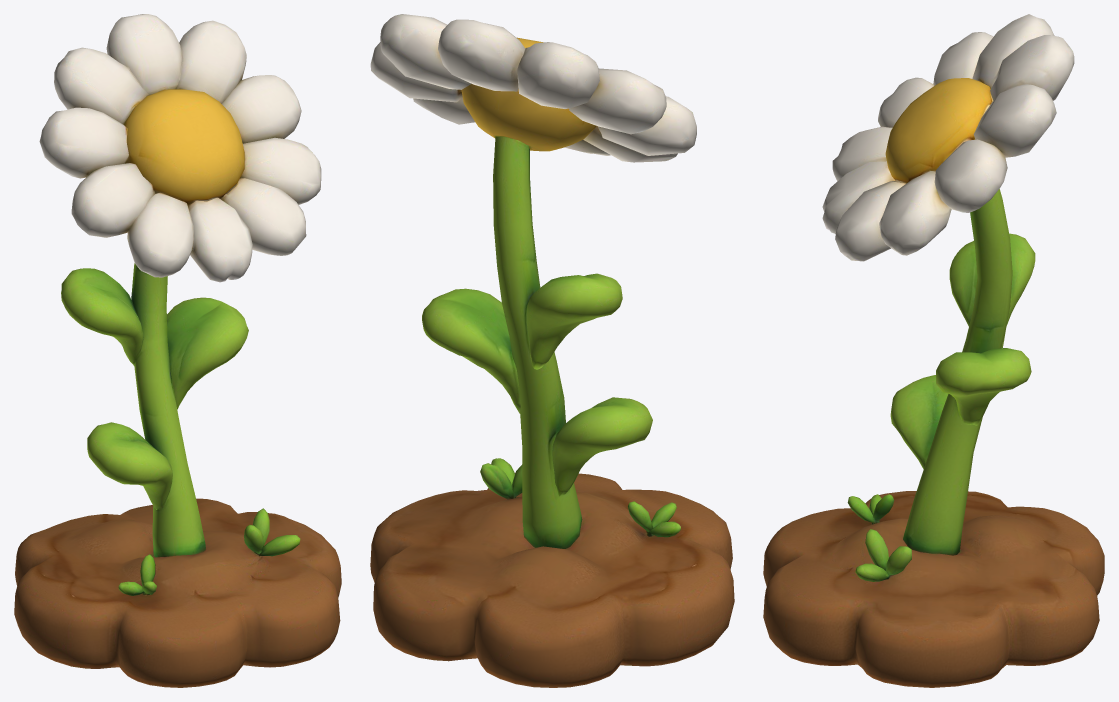
The model's file is daisy_s5.glb.
3 views of the same model, side by side, from view 1: azimuth 30°, elevation 25°; view 2: azimuth 150°, elevation 25°; view 3: azimuth 270°, elevation 25° (orthographic). The views are drawn at different scales.
Visible parts, largest first — view 1: tripo_node_97cf15dc-2b10-4eae-a938-f44a3dfe15f3; view 2: tripo_node_97cf15dc-2b10-4eae-a938-f44a3dfe15f3; view 3: tripo_node_97cf15dc-2b10-4eae-a938-f44a3dfe15f3.
Boxes of the visible parts, x1,y1,x2,y2 form: tripo_node_97cf15dc-2b10-4eae-a938-f44a3dfe15f3: [14, 14, 341, 687]; tripo_node_97cf15dc-2b10-4eae-a938-f44a3dfe15f3: [370, 14, 734, 687]; tripo_node_97cf15dc-2b10-4eae-a938-f44a3dfe15f3: [763, 14, 1104, 687].
Size of the model in its own units: 0.5605 by 0.998 by 0.5293.
1 material, 1 textured.
